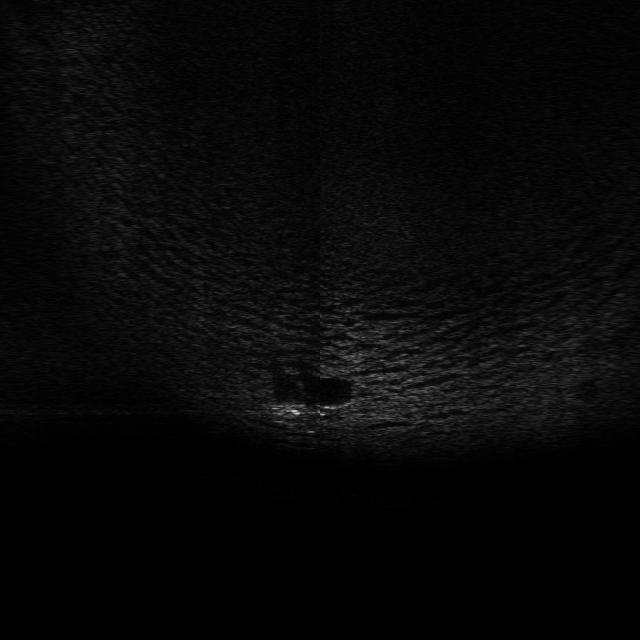plane: (268, 400, 352, 424)
